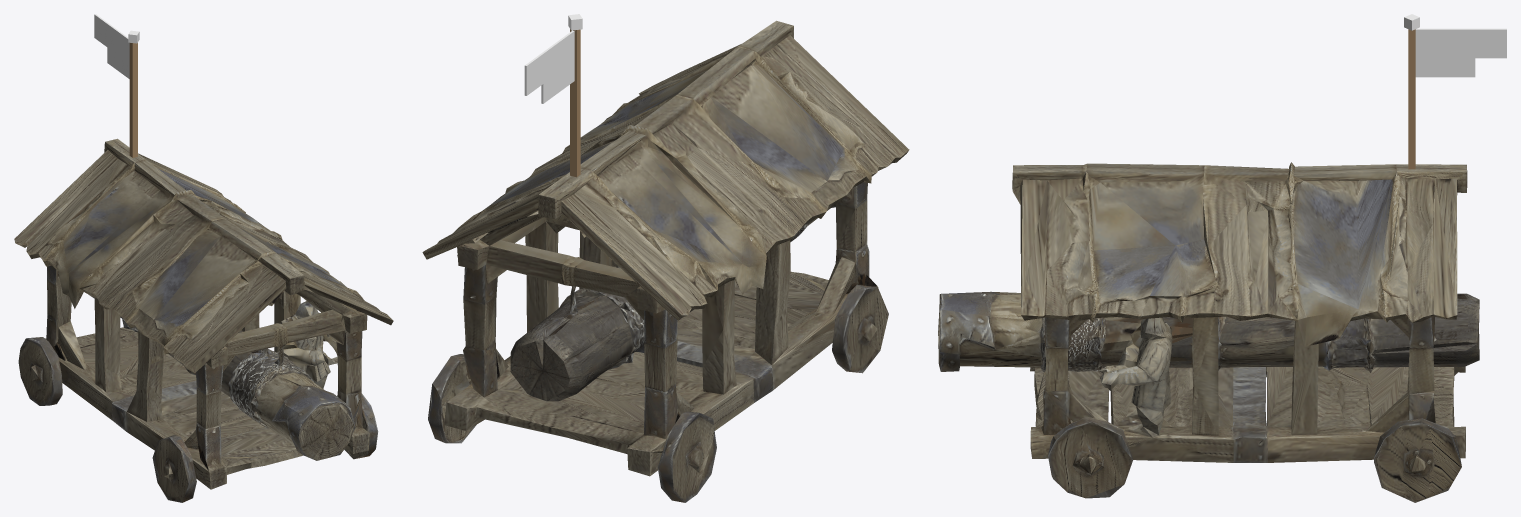
File: battering_ram.glb
3 renders of one model, left to right at view 1: azimuth 30°, elevation 25°; view 2: azimuth 150°, elevation 25°; view 3: azimuth 270°, elevation 25°, orthographic. The views are drawn at different scales.
Parts seen in each view (by area): view 1: battering_ram, Team_pennant; view 2: battering_ram, Team_pennant; view 3: battering_ram, Team_pennant.
Part boxes in pixels (x1,y1,x2,y2): battering_ram: [14, 138, 393, 502]; Team_pennant: [94, 14, 139, 157]; battering_ram: [422, 20, 909, 502]; Team_pennant: [524, 14, 582, 177]; battering_ram: [938, 162, 1479, 502]; Team_pennant: [1404, 14, 1506, 169].
Size of the model in its own units: 1.02 by 1.66 by 1.99.
Materials: 3 (1 with a texture image).
